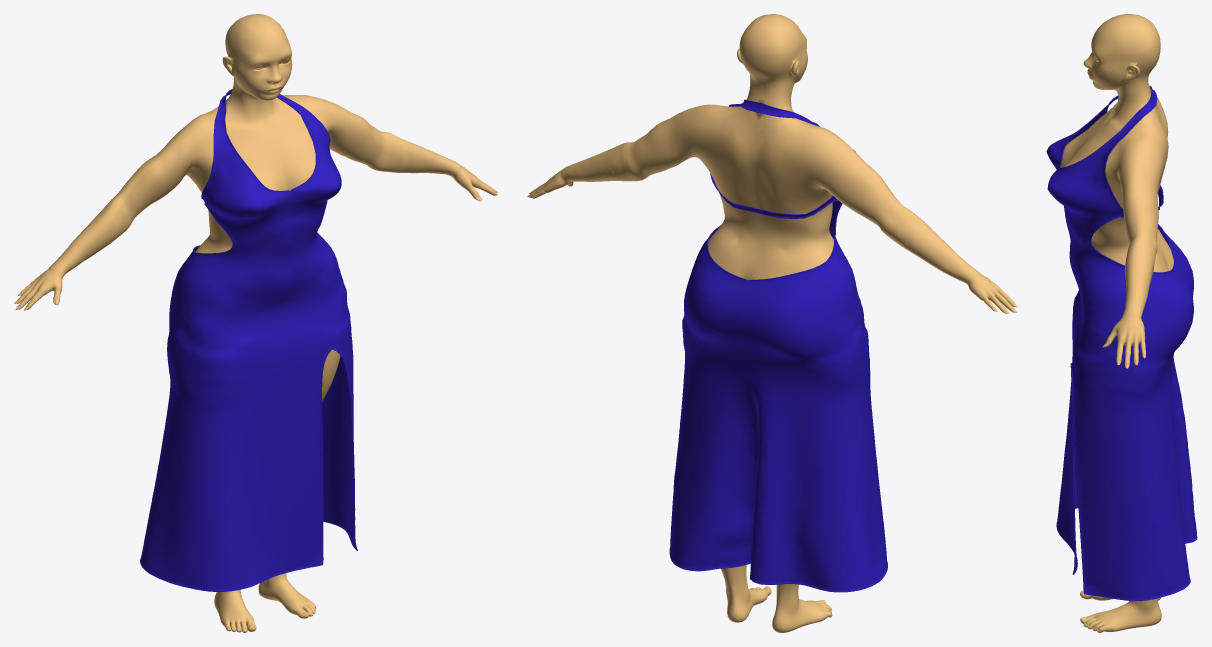
File: dress9.glb
The picture shows the model from 3 angles, left to right: view 1: azimuth 30°, elevation 25°; view 2: azimuth 150°, elevation 25°; view 3: azimuth 270°, elevation 25°; orthographic projection.
Visible parts, largest first — view 1: EveningDress, Body; view 2: EveningDress, Body; view 3: EveningDress, Body.
Boxes of the visible parts, bbox=[...] form: EveningDress: bbox=[140, 89, 357, 591]; Body: bbox=[17, 14, 497, 632]; EveningDress: bbox=[669, 99, 887, 592]; Body: bbox=[529, 14, 1014, 632]; EveningDress: bbox=[1046, 86, 1197, 601]; Body: bbox=[1060, 14, 1173, 632].
Size of the model in its own units: 1.58 by 1.85 by 0.4261.
